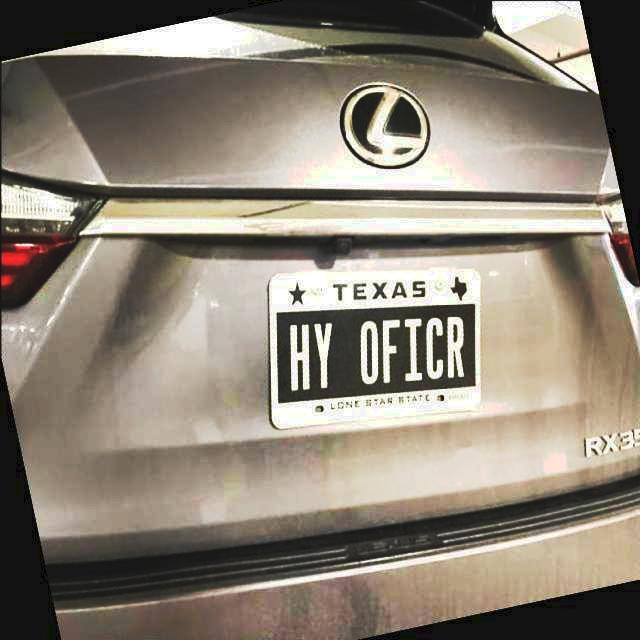license_plate: (270, 268, 483, 426)
